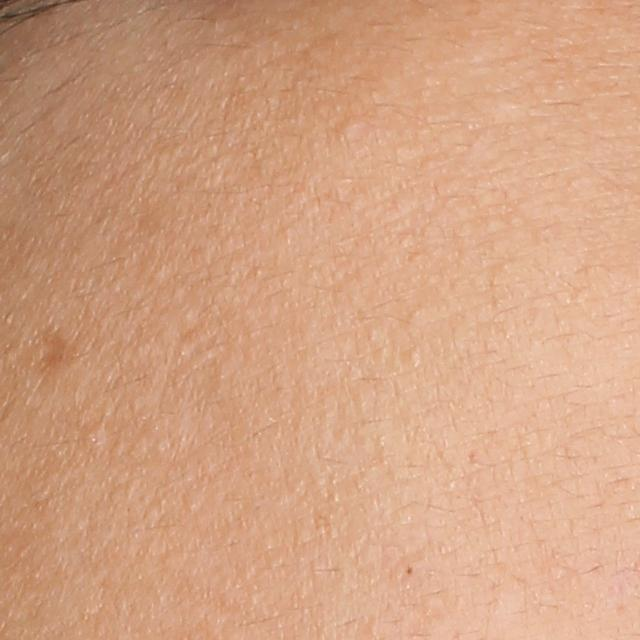comedo: (83, 424, 109, 450), (335, 116, 360, 139), (405, 564, 417, 576)
